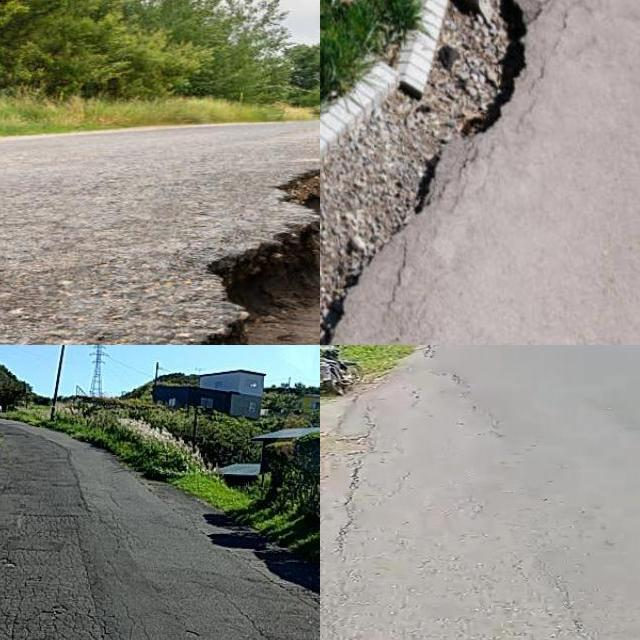Pinggir: (320, 0, 542, 345), (129, 147, 320, 345)
